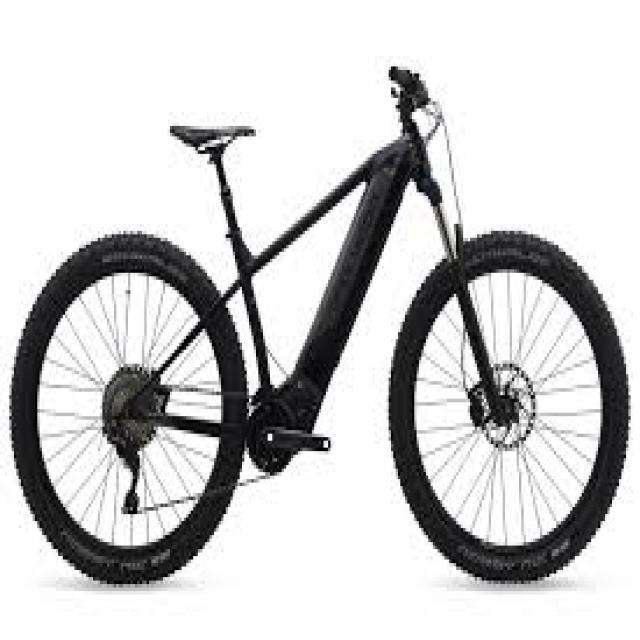bicycle: (14, 77, 624, 583)
